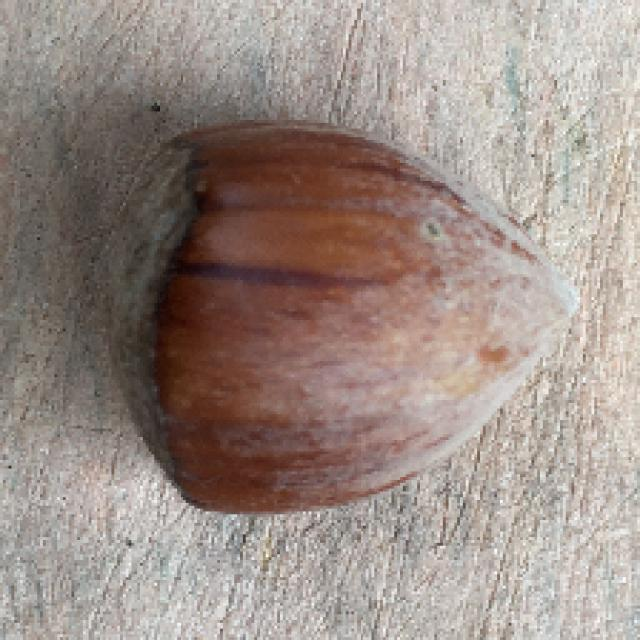qualityHazelnut: (75, 115, 582, 515)
